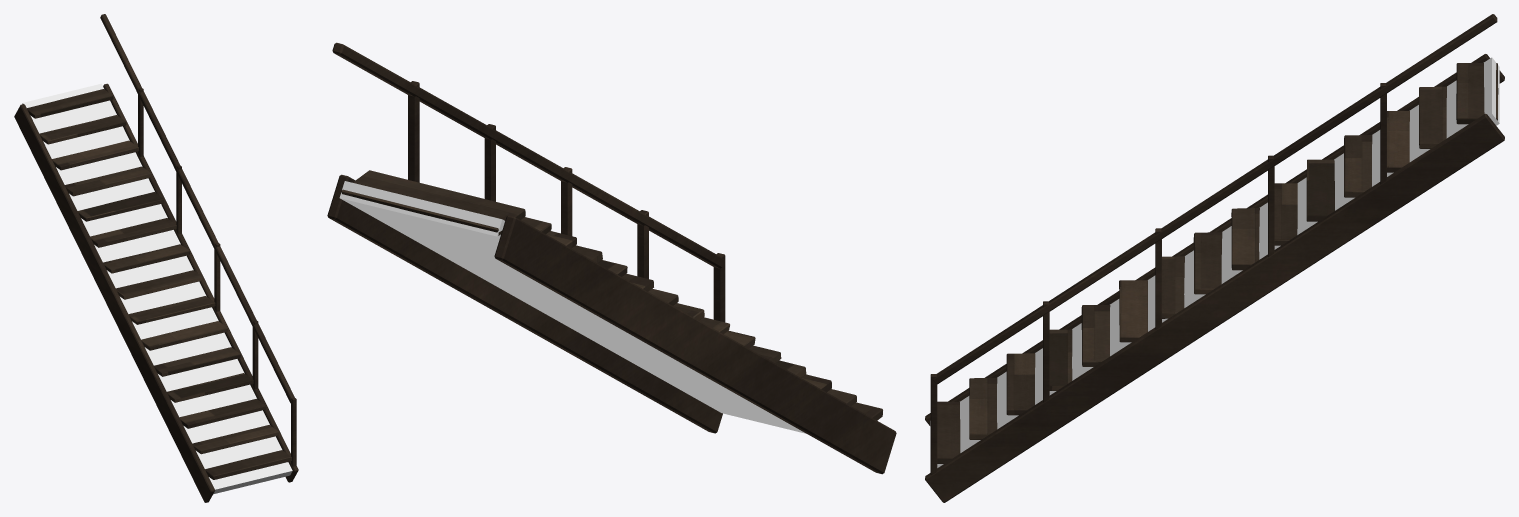
The model's file is ak_stairs_timber_1w_3r.glb.
The picture shows the model from 3 angles, left to right: view 1: azimuth 30°, elevation 25°; view 2: azimuth 150°, elevation 25°; view 3: azimuth 270°, elevation 25°; orthographic projection. The views are drawn at different scales.
Parts seen in each view (by area): view 1: stairs, col_stairs_ramp; view 2: stairs, col_stairs_ramp; view 3: stairs, col_stairs_ramp.
Boxes of the visible parts, box(x1,y1,x2,y2) form: stairs: box(14, 14, 298, 502); col_stairs_ramp: box(22, 83, 292, 494); stairs: box(327, 42, 896, 474); col_stairs_ramp: box(339, 181, 806, 433); stairs: box(925, 14, 1504, 502); col_stairs_ramp: box(930, 57, 1499, 472).
Size of the model in its own units: 1.12 by 4.01 by 4.33.
2 materials, 2 textured.
